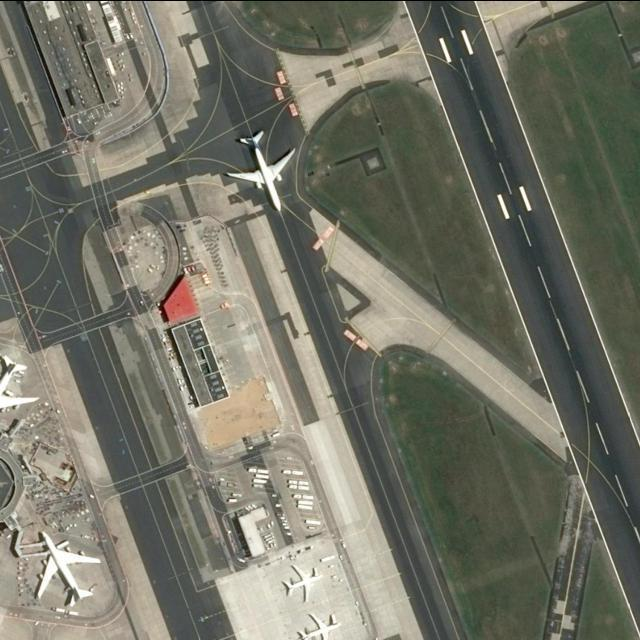Aircraft: (219, 127, 299, 217), (28, 526, 104, 612), (1, 353, 37, 441), (278, 561, 325, 603), (293, 611, 343, 640)
